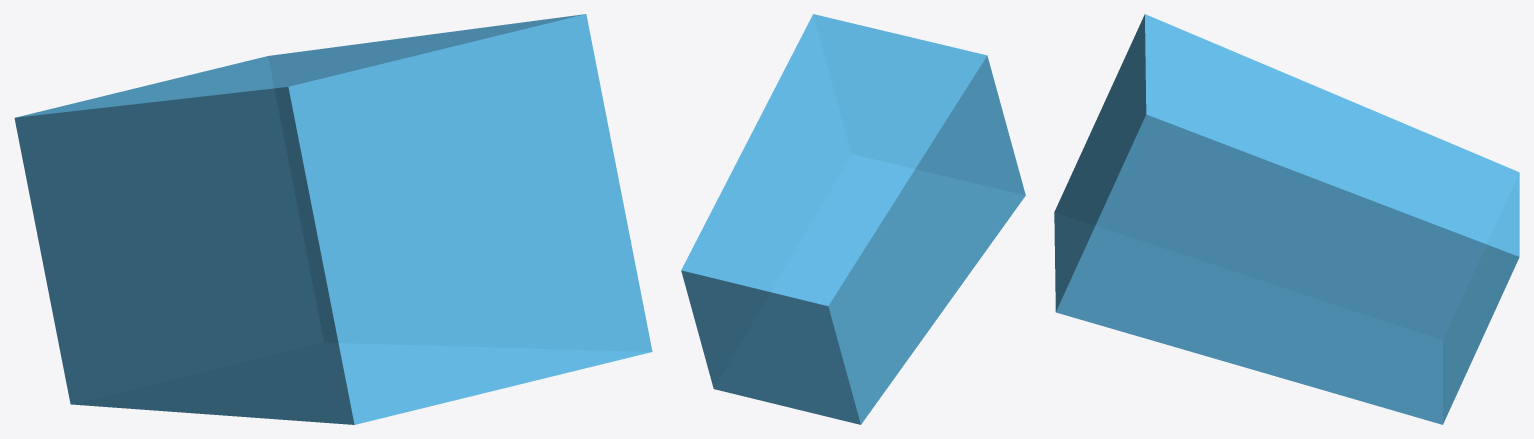
File: Event_421127236_HBrechit_15.fbx
3 views of the same model, side by side, from view 1: azimuth 30°, elevation 25°; view 2: azimuth 150°, elevation 25°; view 3: azimuth 270°, elevation 25° (orthographic). The views are drawn at different scales.
Visible parts, largest first — view 1: Model; view 2: Model; view 3: Model.
Boxes of the visible parts, x1,y1,x2,y2 form: Model: (14, 14, 652, 424); Model: (681, 14, 1025, 424); Model: (1054, 14, 1519, 424).
Size of the model in its own units: 0.4729 by 0.721 by 0.9317.
